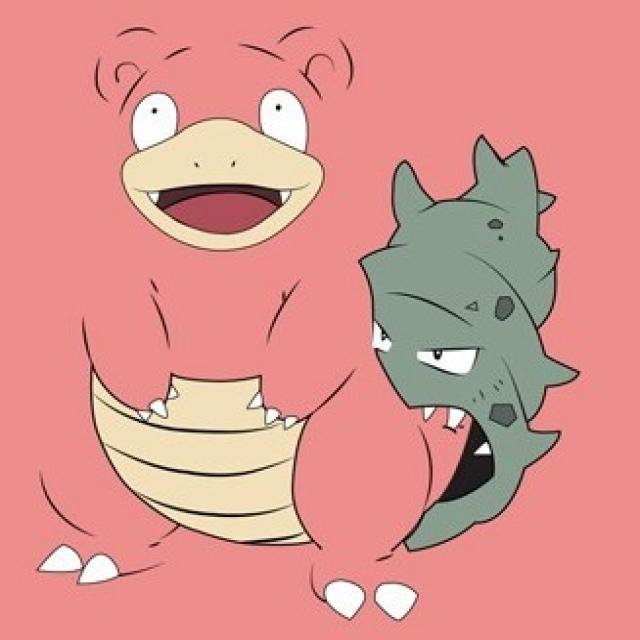Slowbro: (3, 37, 482, 640)
